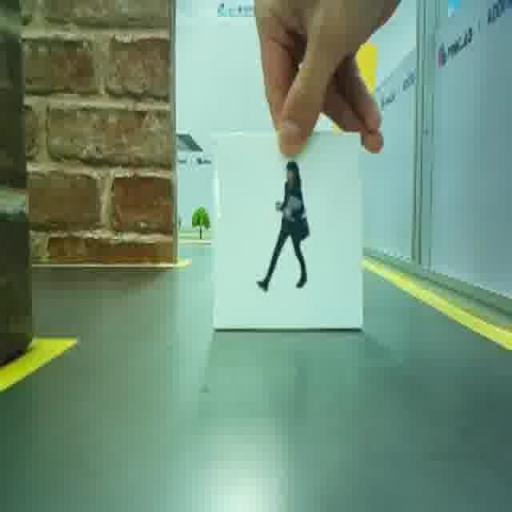human: (257, 161, 309, 291)
